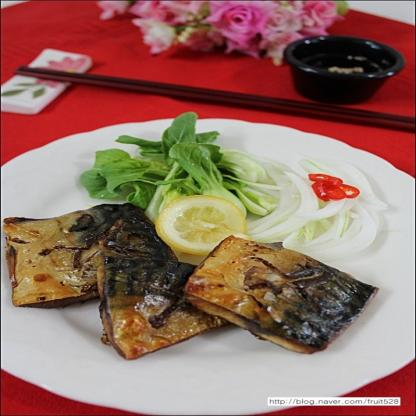Peixe: (0, 218, 380, 364)
